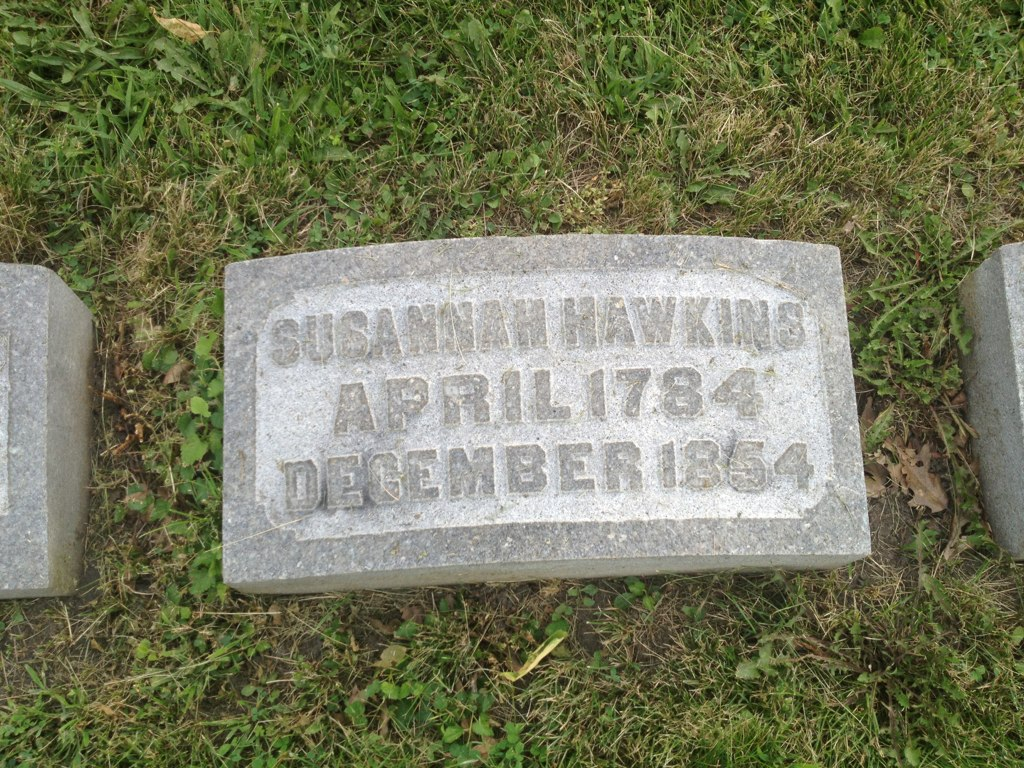flat: (210, 240, 873, 598)
